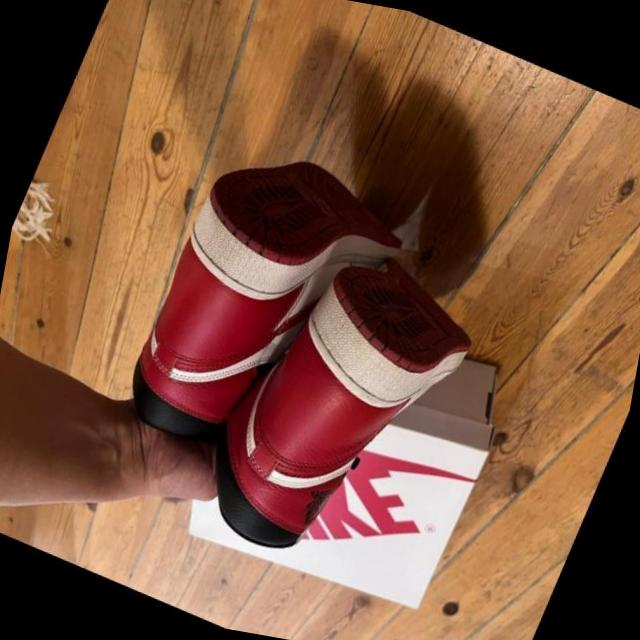nike_original_jordan: (175, 206, 502, 603), (102, 112, 428, 504)
